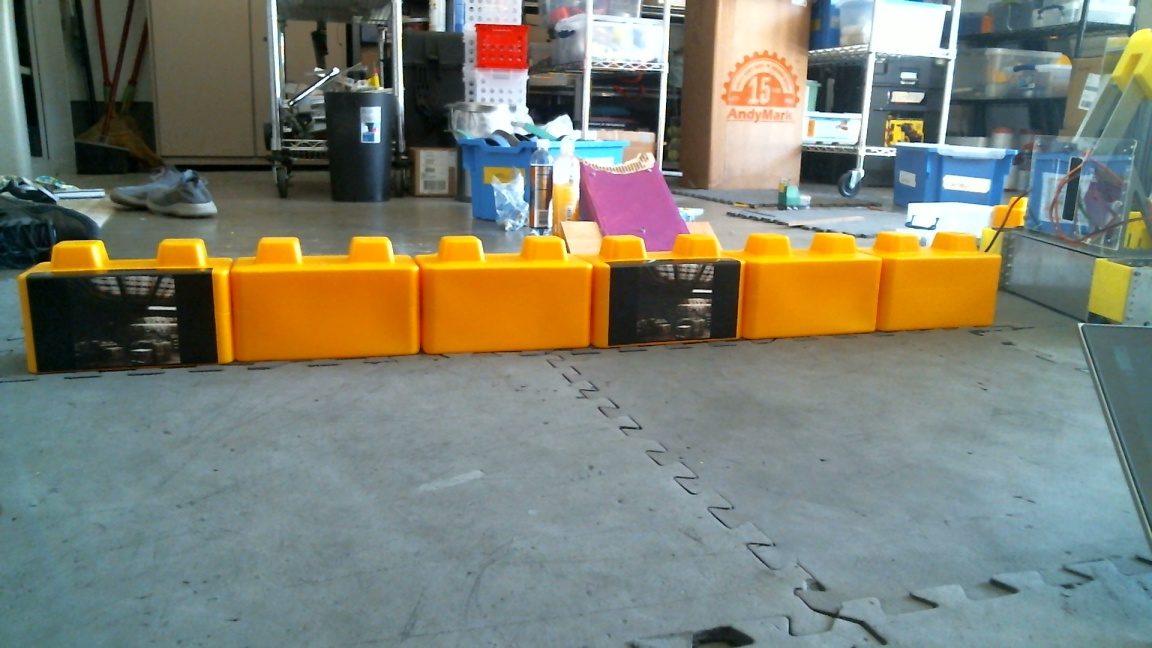center: (416, 234, 880, 356)
left: (21, 240, 600, 374), (594, 226, 994, 347)
right: (231, 234, 742, 359)
